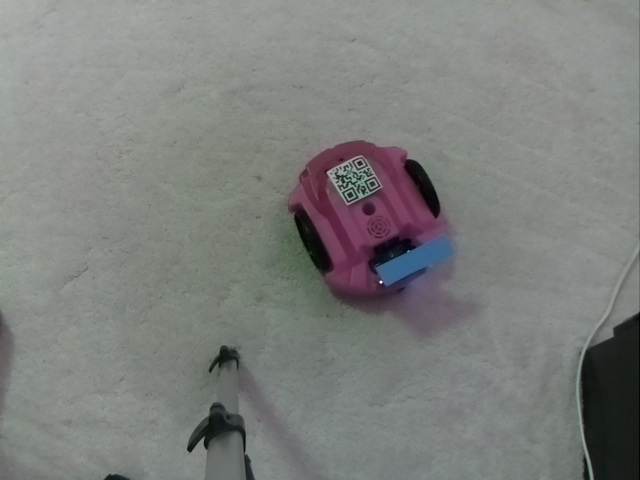chassis: (283, 137, 452, 304)
qr: (327, 150, 382, 204)
